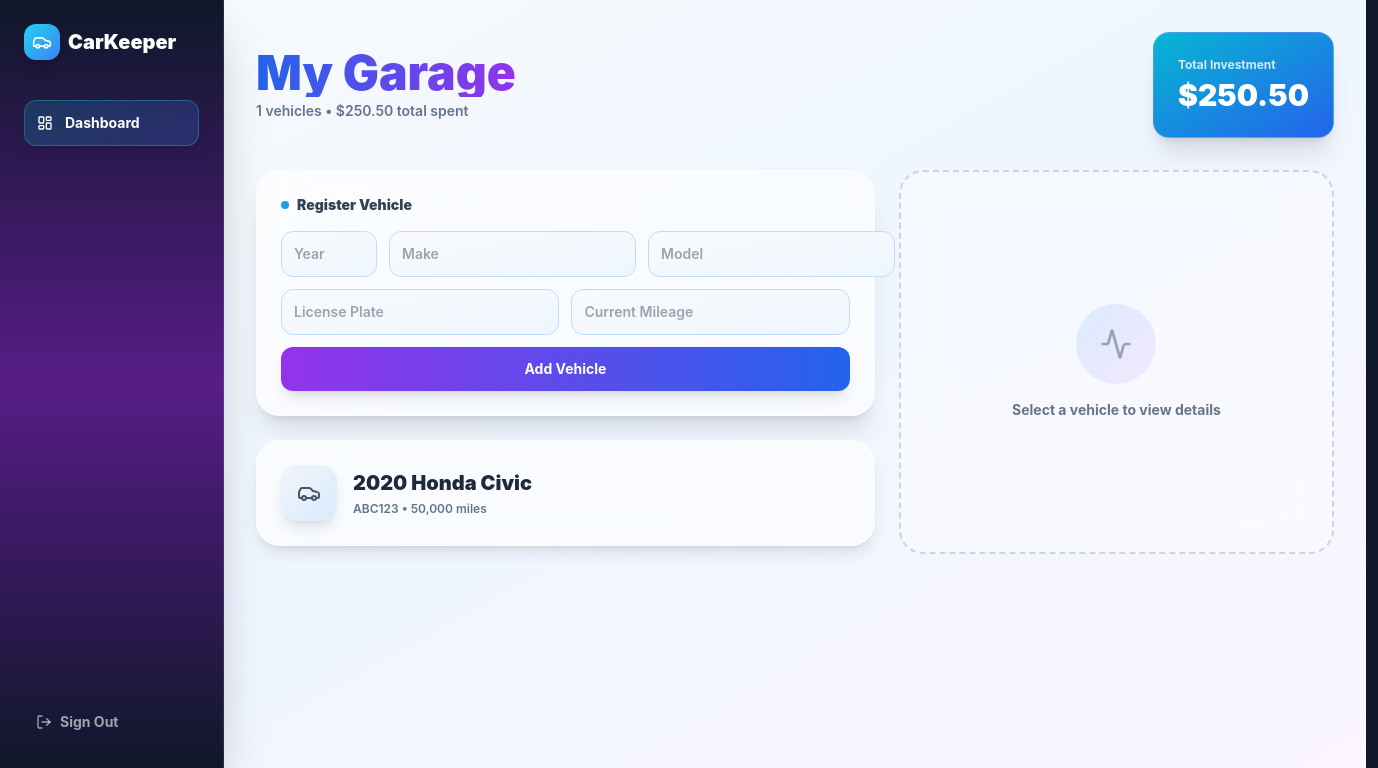
it: service due badge › flags a vehicle overdue for an oil change
Step 1. Click the heading "2020 Honda Civic" → (443, 483), box [353,469,532,497]
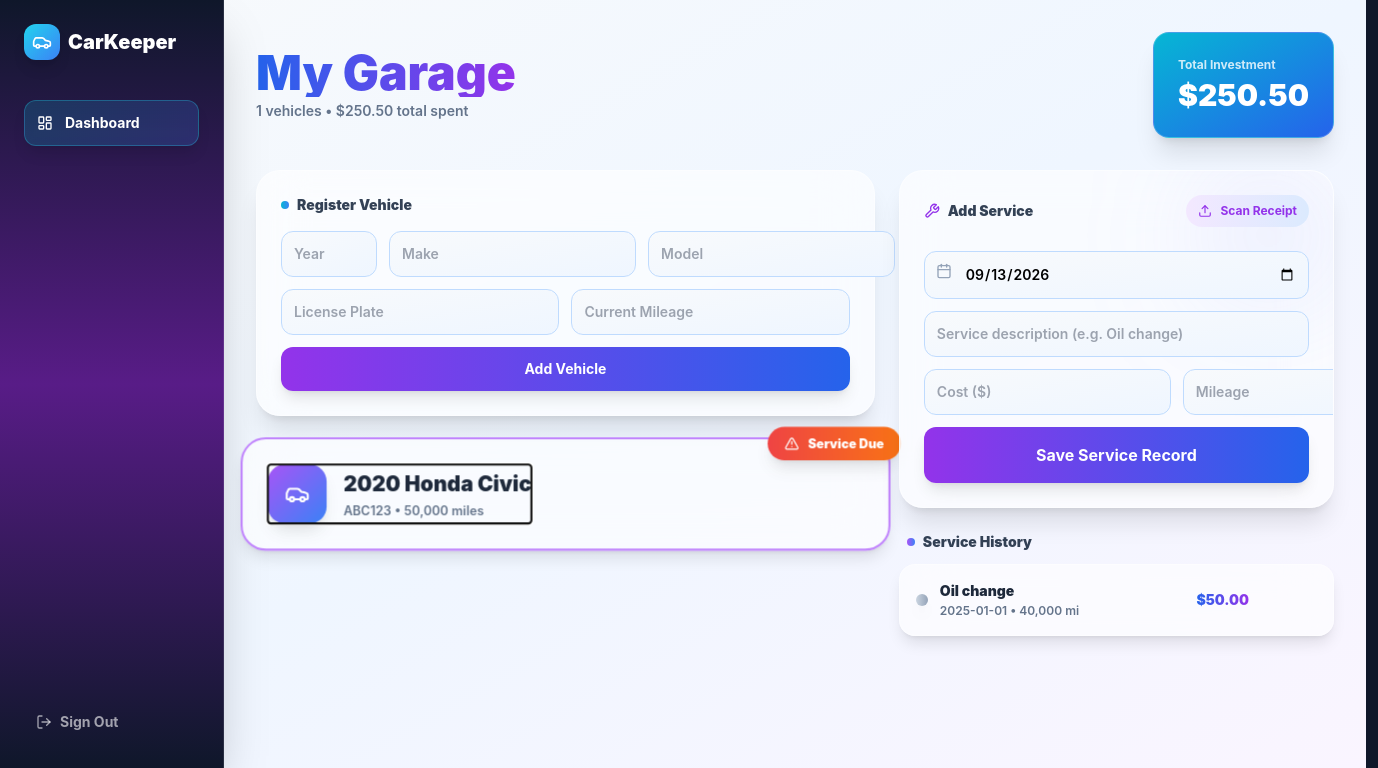
Now the text "Service Due" is shown, box [808,435,884,452]
